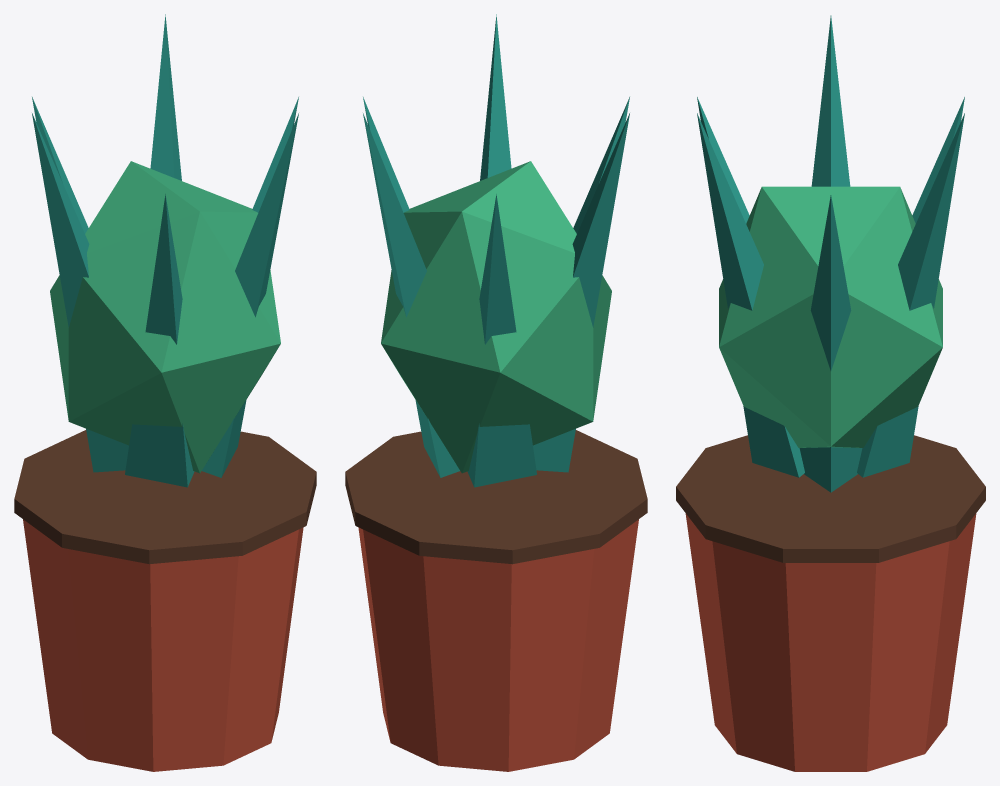
Rendered from potted_plant.b7d27a954112.glb.
3 renders of one model, left to right at view 1: azimuth 30°, elevation 25°; view 2: azimuth 150°, elevation 25°; view 3: azimuth 270°, elevation 25°, orthographic.
Visible parts, largest first — view 1: potted_plant; view 2: potted_plant; view 3: potted_plant.
Boxes of the visible parts, x1,y1,x2,y2 form: potted_plant: [14, 14, 316, 771]; potted_plant: [345, 14, 647, 771]; potted_plant: [676, 15, 985, 771].
Size of the model in its own units: 0.4 by 0.92 by 0.4.
